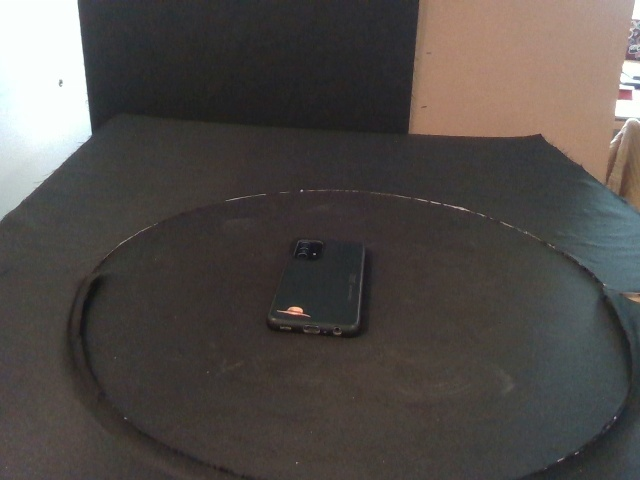phone: (267, 237, 366, 337)
